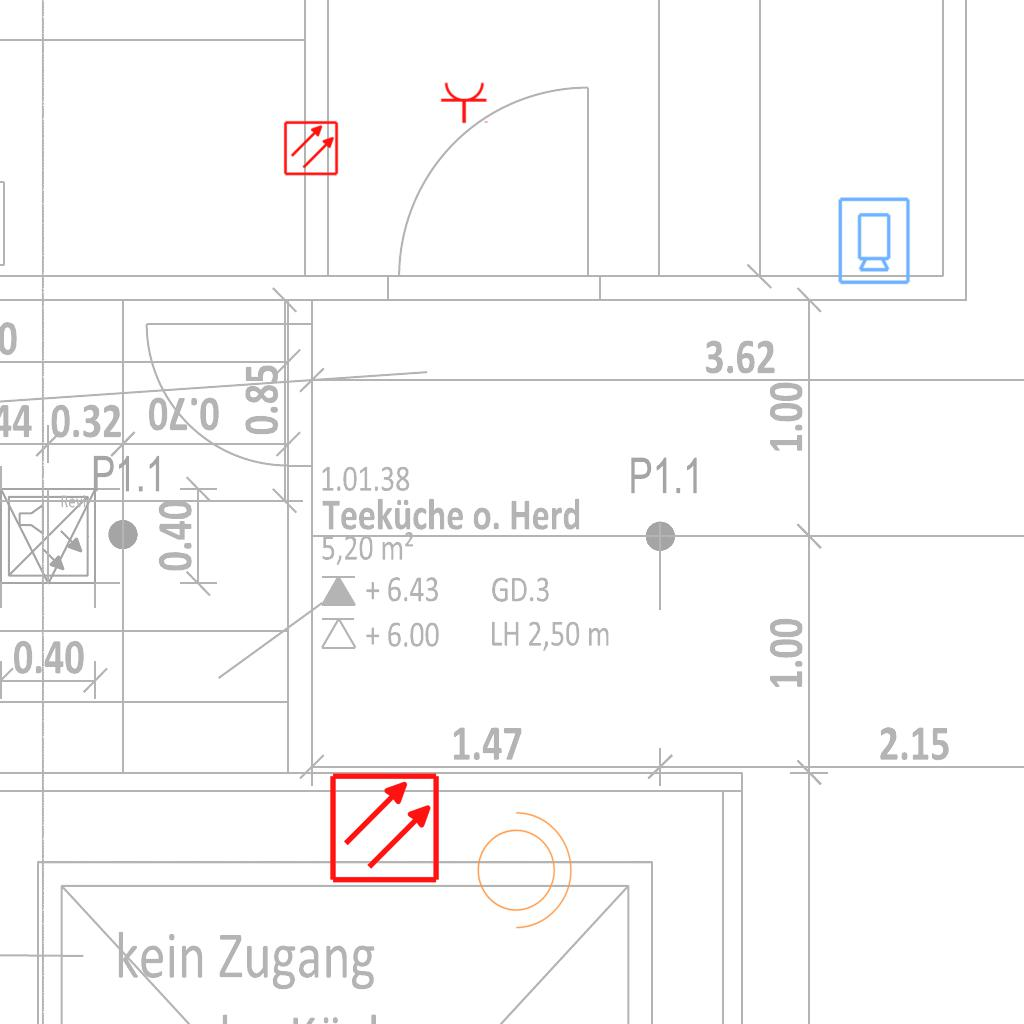KFO_Kamera_mit_Festobjektiv: (835, 195, 912, 286)
RMO_Rauchmelder_optischer: (328, 771, 441, 884), (283, 120, 339, 176)
Scheinwerfer_fuer_Alarmbeleuchtung: (465, 801, 577, 933)
Schukosteckdose_einfach: (440, 81, 490, 124)
